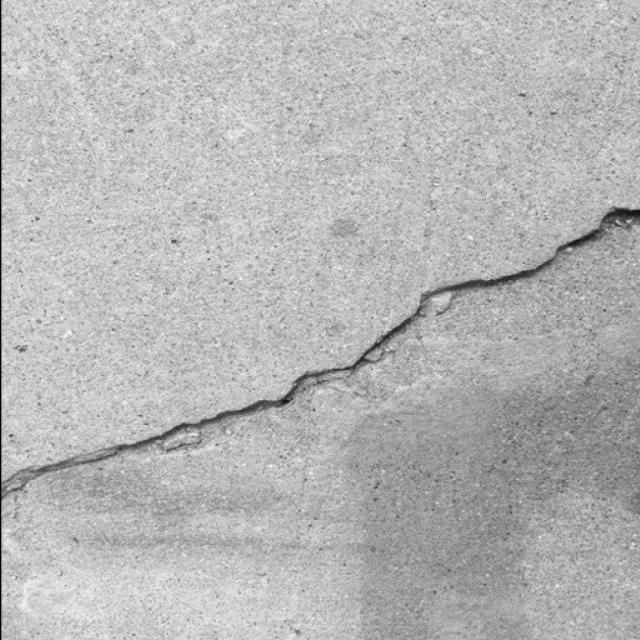SurfaceCrack: (4, 170, 640, 519)
